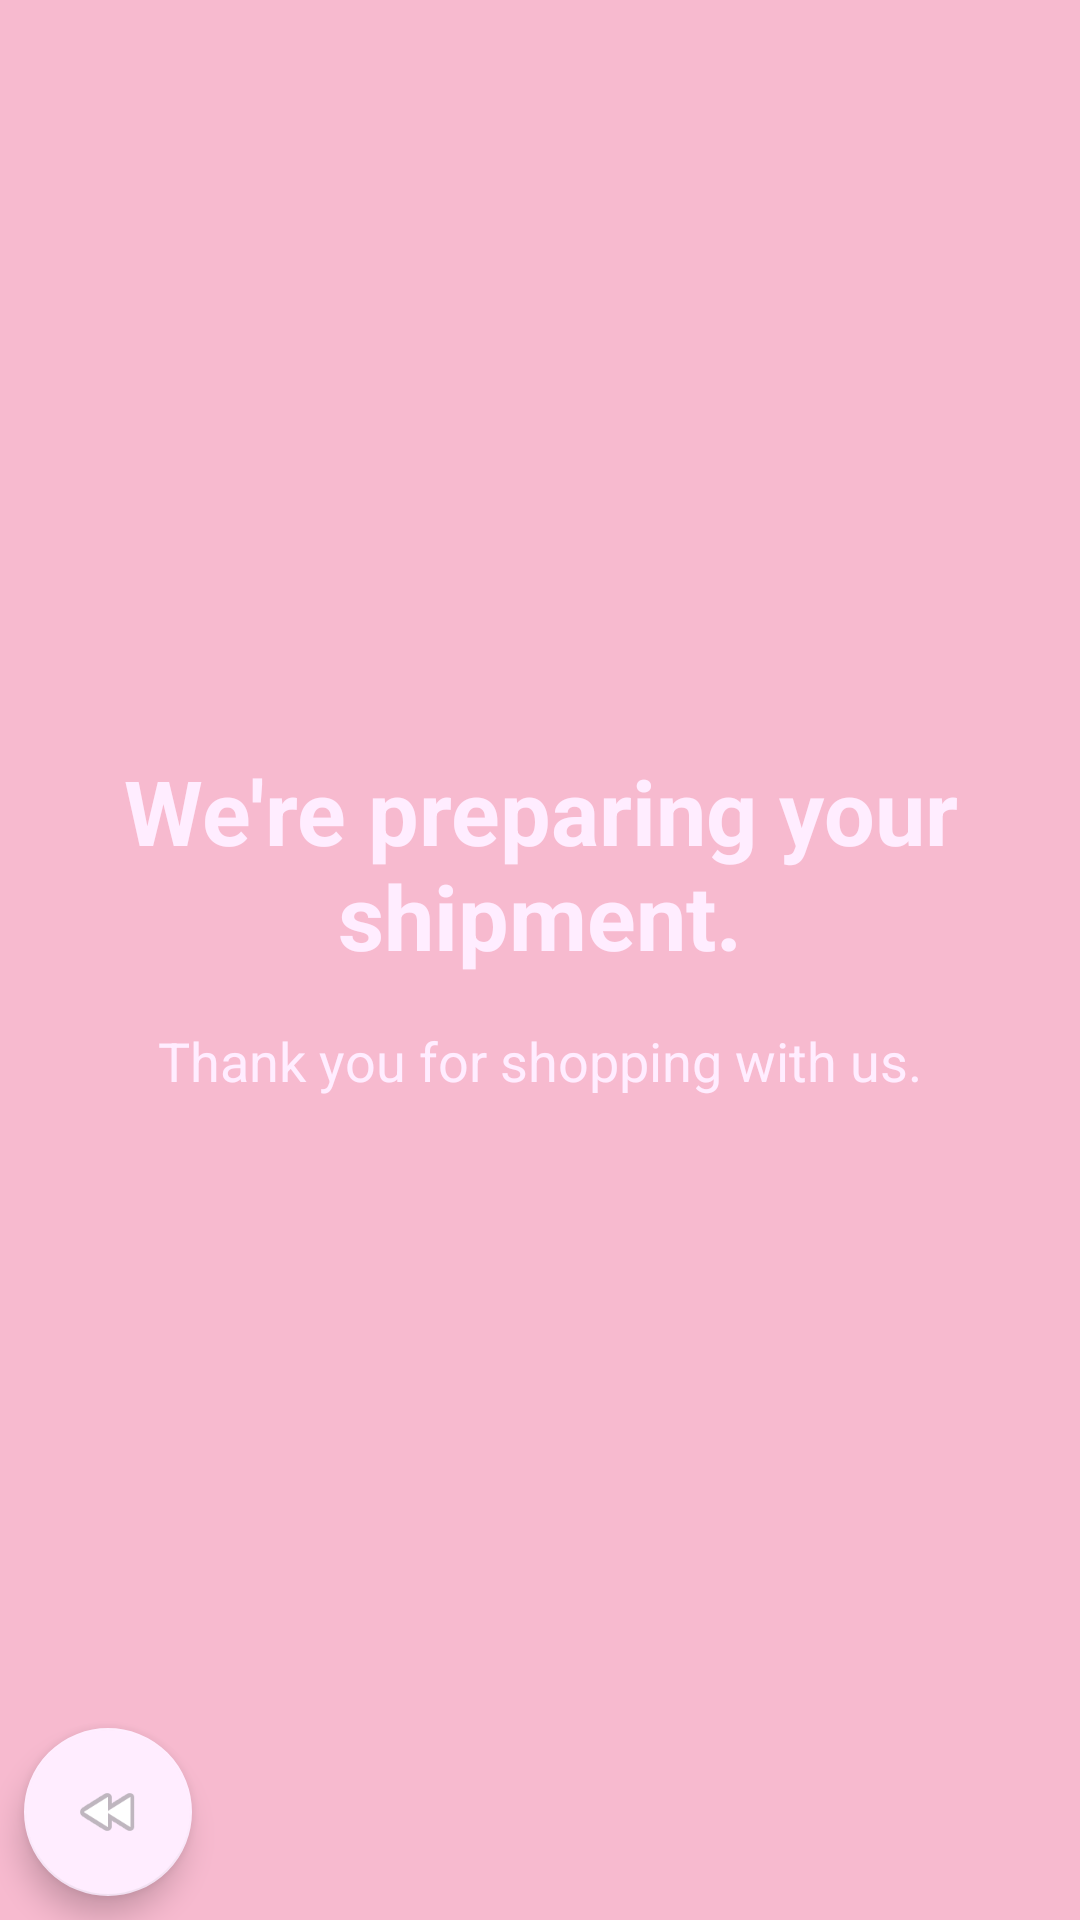

Screen size 1080 × 1920. Icon name, then its center in pixels as point (x, y):
rew: point (108, 1812)
